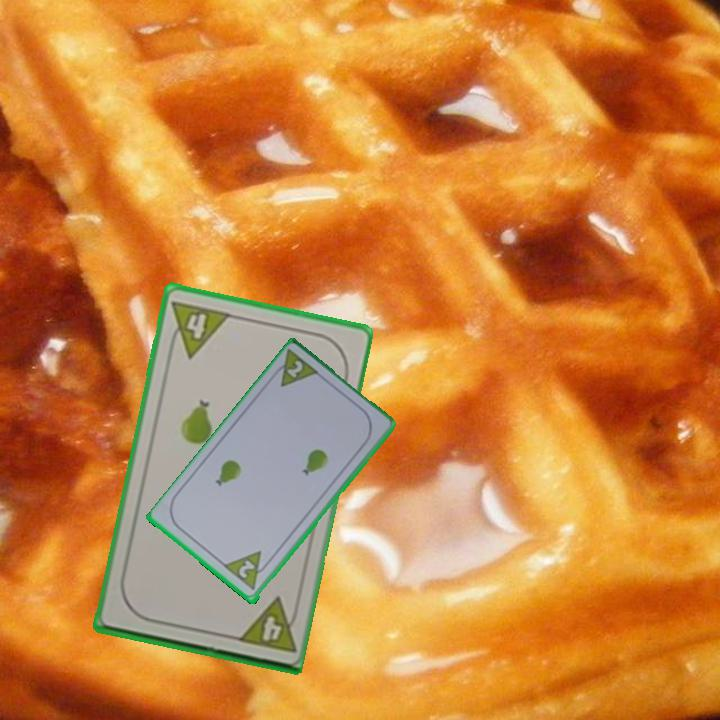2p: (235, 557, 258, 582), (283, 357, 306, 381)
4p: (164, 296, 233, 361), (232, 594, 302, 656)
